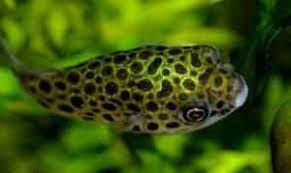Green Spotted Puffer: (0, 36, 250, 136)
